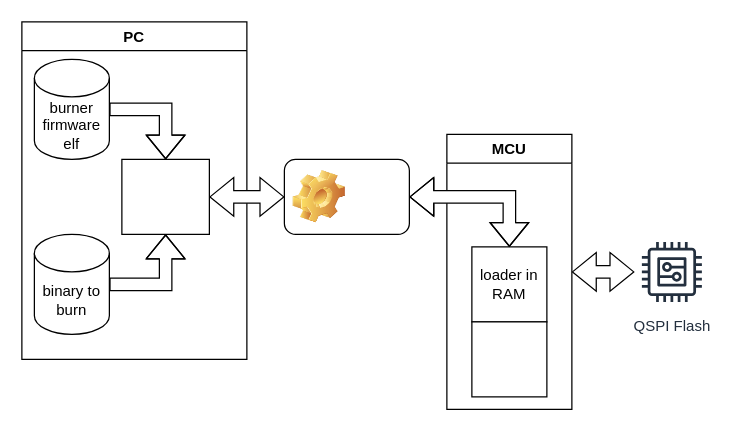
Image size: 731x431. Some labels were removed from this diagram. The shapes that lost their labels are listed below. From the top down, each one's centre as x and y in pixels, then its label:
pixel 165 196: openocd
pixel 346 196: CMSIS DAP
pixel 509 359: memory buffer
